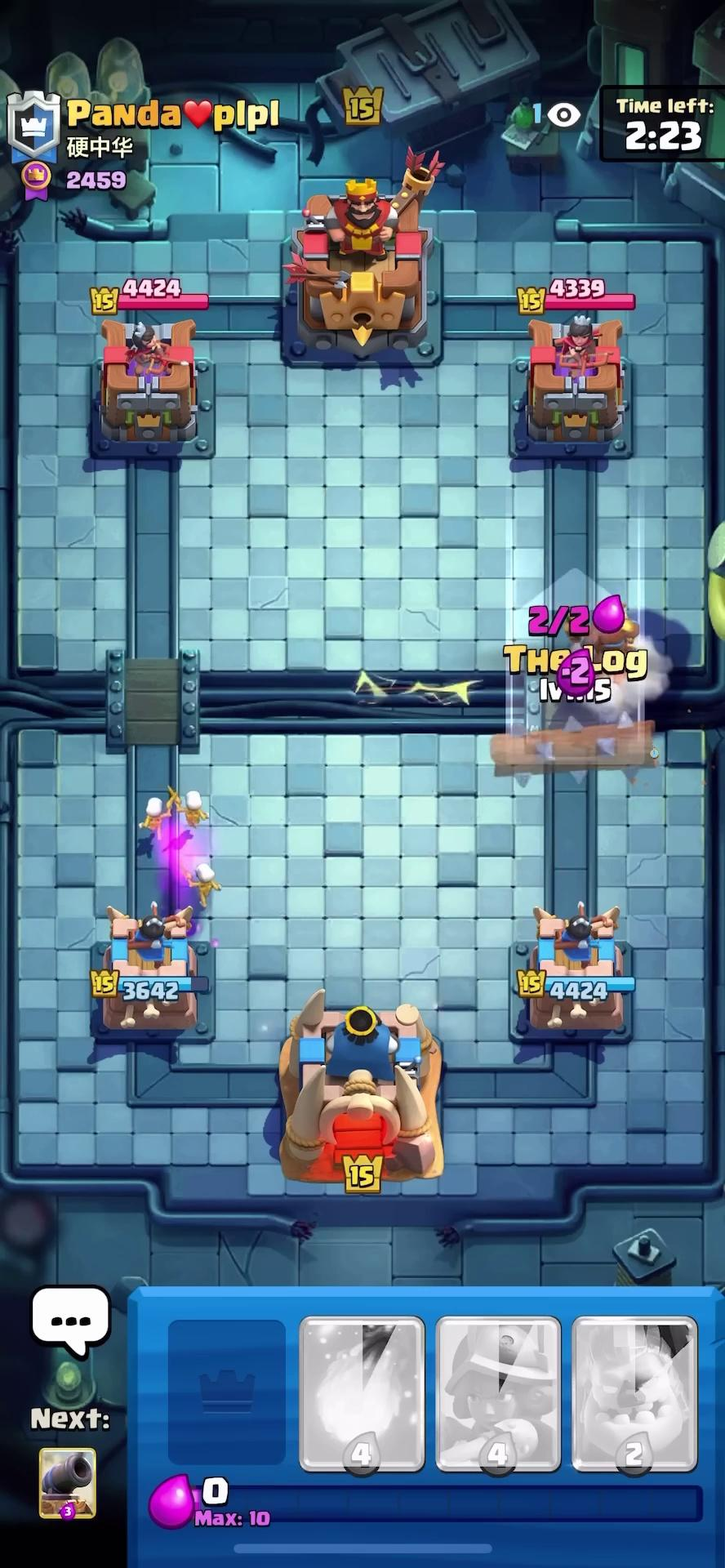hog_rider: (565, 598, 651, 690)
skeletons: (139, 784, 231, 900)
